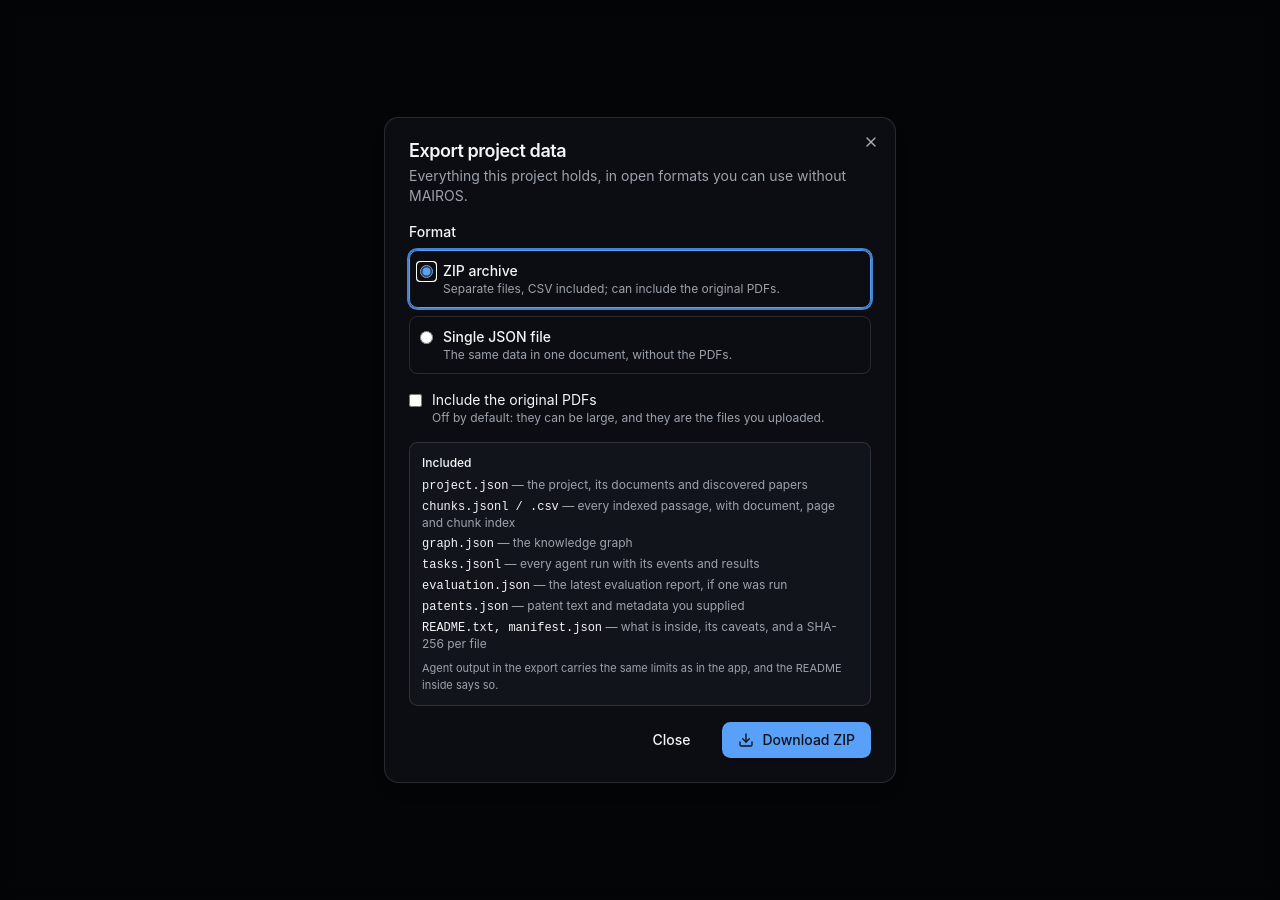
ProjectExportDialog › downloads a ZIP without originals by default
Expected: the checkbox labelled "Include the original PDFs" is not checked, [409,394,422,407]
Click the button "Download ZIP": x=797, y=740 [722,722,871,758]
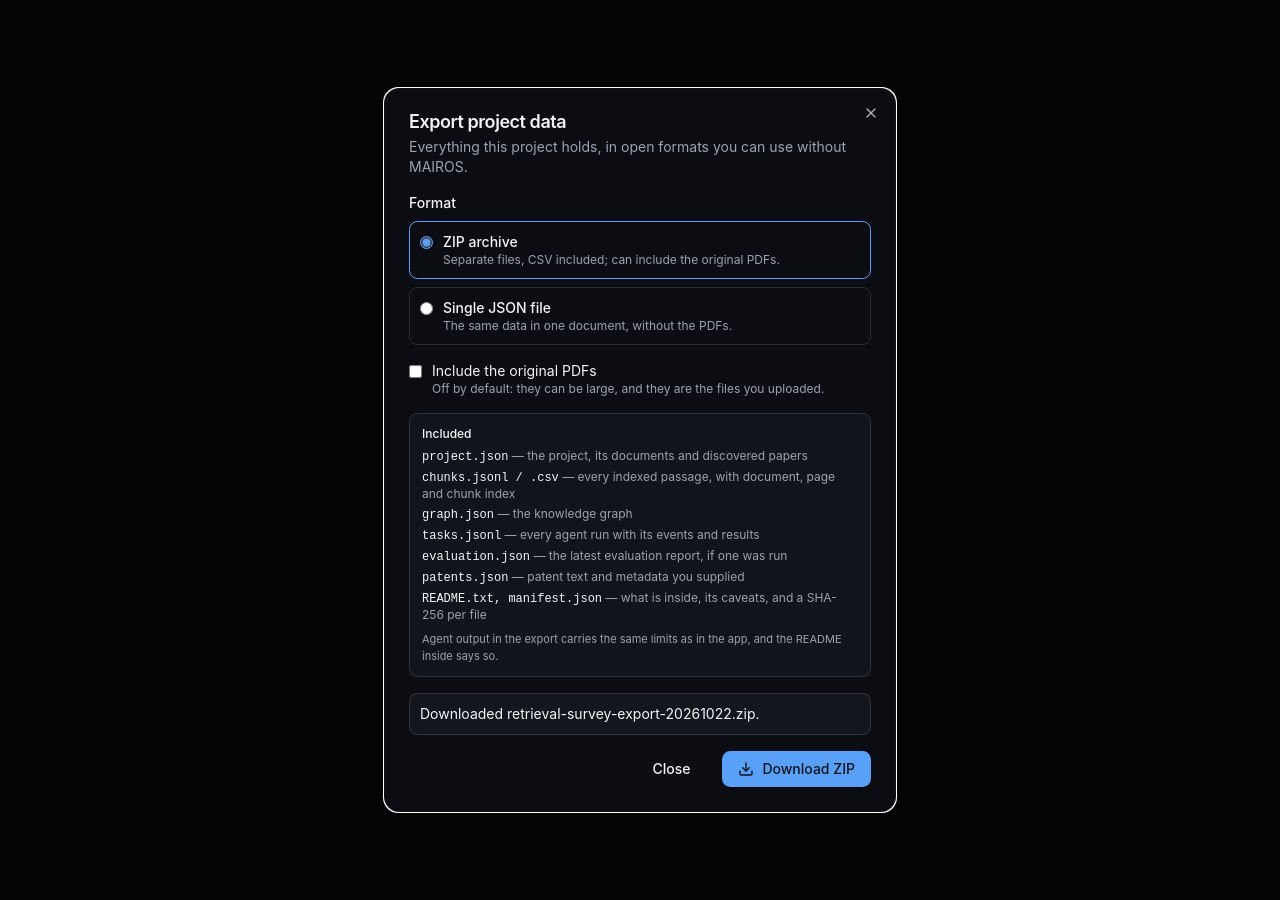
Result: the message shows "retrieval-survey-export-20261022.zip" at [420,705,760,722]
